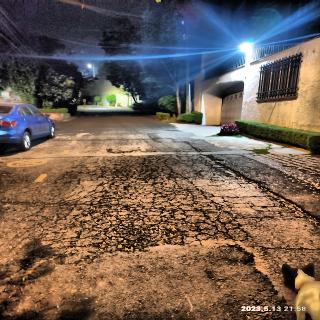alligator-crack: (66, 155, 204, 253), (173, 167, 261, 252)
crack: (249, 261, 295, 320), (223, 189, 306, 220), (104, 142, 224, 162), (252, 240, 320, 256)
